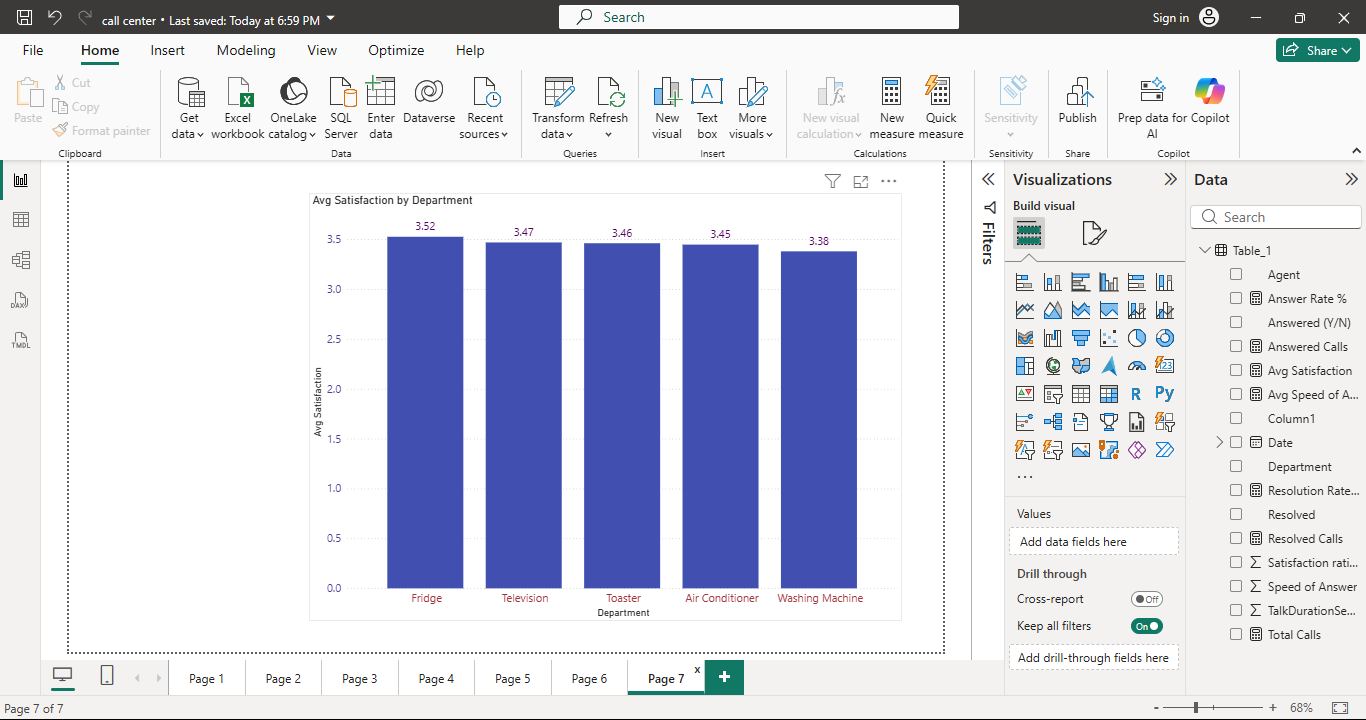

The page's visual inventory and layout, read from the dashboard file:
{"tool":"powerbi","page":{"name":"Page 7","canvas":[1280,720],"ordinal":6},"visuals":[{"type":"clusteredColumnChart","fields":{"Category":["Table_1.Department"],"Y":["Table_1.Avg Satisfaction"]},"box":[351.1,48.7,868.5,626.6],"z":0}]}

Visuals, with their boxes on the page's 1280x720 design canvas (x1, y1, x2, y2). These are canvas units, not pixel positions in the 1366x720 screenshot, which may show the page scaled, cropped or inside an application window:
clusteredColumnChart - Table_1.Department x Table_1.Avg Satisfaction: (351,49,1220,675)
